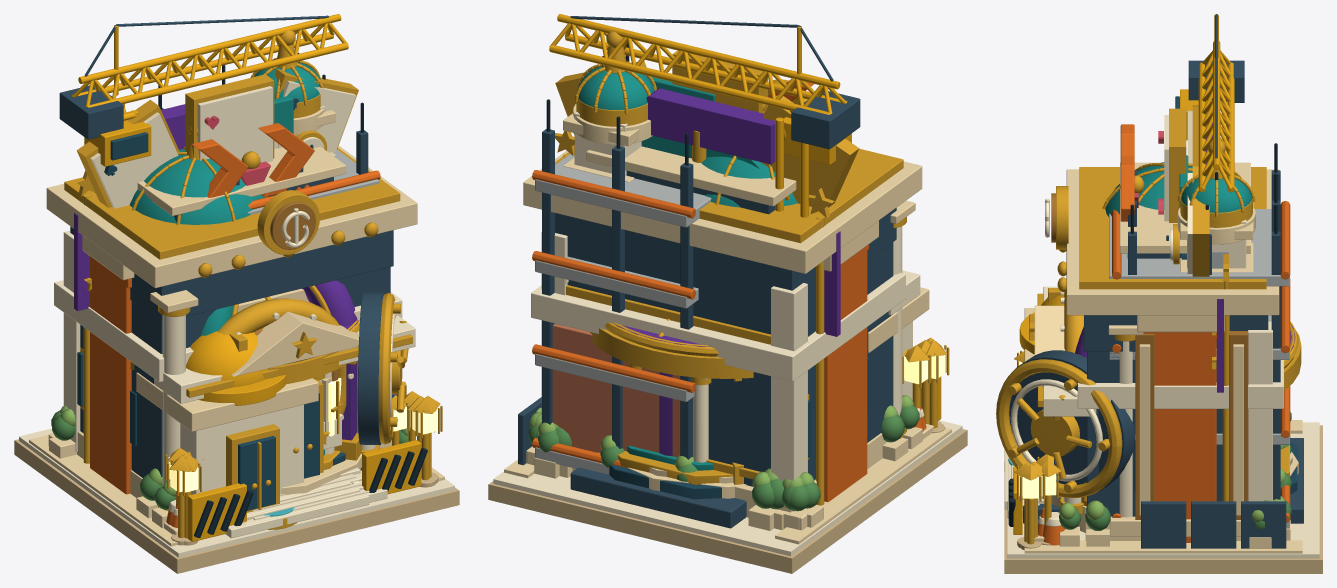
File: specials.glb
3 renders of one model, left to right at view 1: azimuth 30°, elevation 25°; view 2: azimuth 150°, elevation 25°; view 3: azimuth 270°, elevation 25°, orthographic. The views are drawn at different scales.
Parts seen in each view (by area): view 1: vault_bank_geometry, builders_guild_geometry, card_pavilion_geometry, civic_hall_geometry, rush_station_geometry, junction_hub_geometry, chance_wheel_geometry; view 2: vault_bank_geometry, builders_guild_geometry, civic_hall_geometry, card_pavilion_geometry, rush_station_geometry, chance_wheel_geometry, junction_hub_geometry, teleport_gate_geometry; view 3: vault_bank_geometry, builders_guild_geometry, rush_station_geometry, civic_hall_geometry, card_pavilion_geometry, chance_wheel_geometry, junction_hub_geometry, teleport_gate_geometry.
Boxes of the visible parts, bbox=[...] form: vault_bank_geometry: bbox=[46, 146, 442, 545]; builders_guild_geometry: bbox=[15, 14, 458, 568]; card_pavilion_geometry: bbox=[14, 69, 459, 573]; civic_hall_geometry: bbox=[54, 30, 439, 545]; rush_station_geometry: bbox=[19, 96, 458, 571]; junction_hub_geometry: bbox=[51, 104, 419, 504]; chance_wheel_geometry: bbox=[14, 151, 458, 572]; vault_bank_geometry: bbox=[523, 79, 949, 527]; builders_guild_geometry: bbox=[489, 14, 966, 572]; civic_hall_geometry: bbox=[531, 31, 946, 530]; card_pavilion_geometry: bbox=[488, 50, 967, 573]; rush_station_geometry: bbox=[511, 77, 966, 569]; chance_wheel_geometry: bbox=[489, 349, 967, 572]; junction_hub_geometry: bbox=[527, 88, 932, 529]; teleport_gate_geometry: bbox=[526, 412, 809, 530]; vault_bank_geometry: bbox=[996, 162, 1279, 550]; builders_guild_geometry: bbox=[1005, 14, 1321, 573]; rush_station_geometry: bbox=[1005, 124, 1321, 572]; civic_hall_geometry: bbox=[1004, 140, 1291, 547]; card_pavilion_geometry: bbox=[1004, 105, 1322, 573]; chance_wheel_geometry: bbox=[1005, 175, 1322, 565]; junction_hub_geometry: bbox=[1039, 123, 1298, 545]; teleport_gate_geometry: bbox=[1280, 442, 1297, 494].
Bounding box in the file's own units: 1.02 × 1.58 × 1.05.
